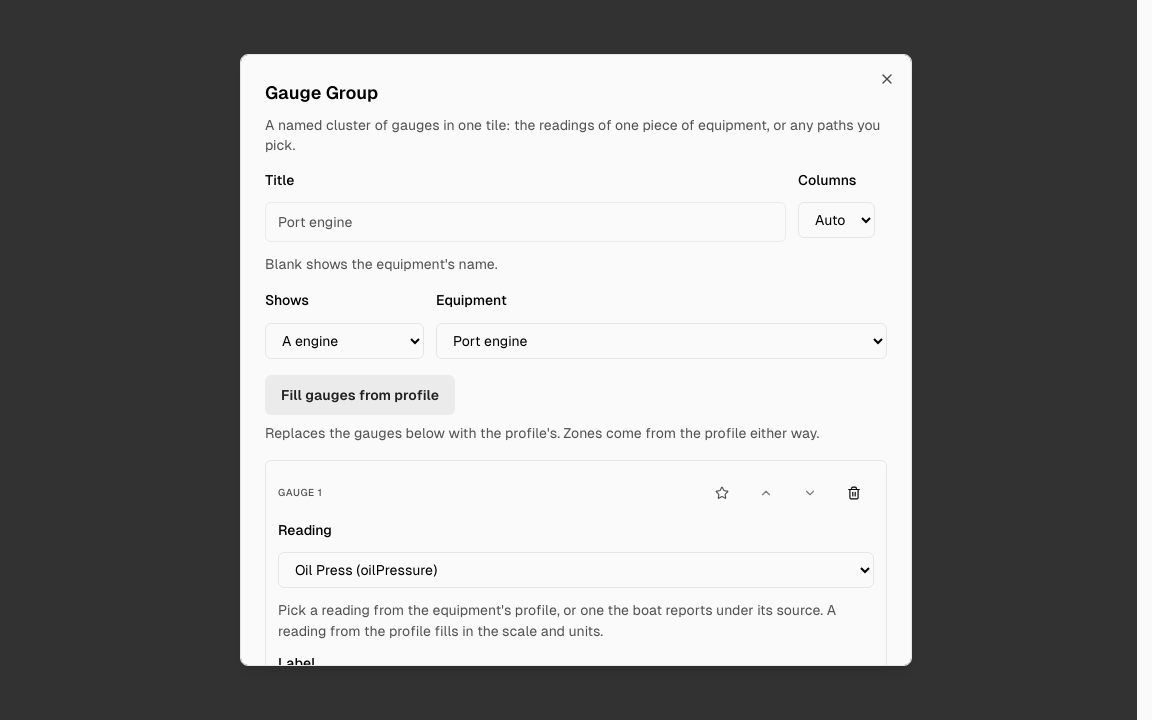
Scenario: GaugeGroupConfigDialog › a group that shows equipment (ADR 0187) › the Reading is picked, never typed: the profile gauges plus what the boat reports under the source
The width and height of the screenshot is (1152, 720).
Select "RPM (revolutions)" in the dropdown labelled "Reading" at (576, 570), box [278,552,874,588]
(page scrolled)
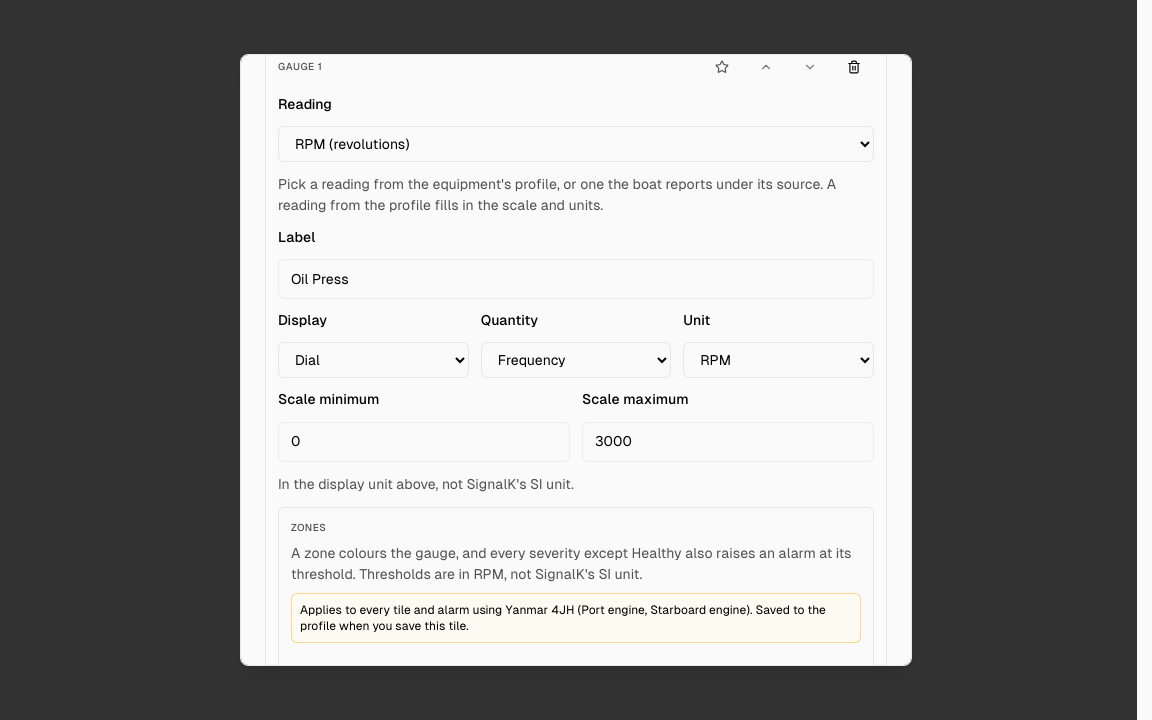
Expected: the dropdown labelled "Unit" shows "RPM", [683,342,874,378]
